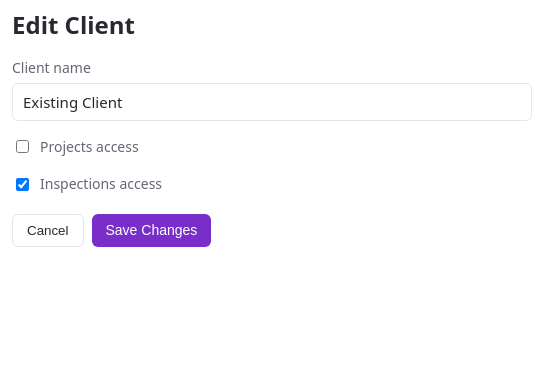
Test: ClientEditPage › shows an API error on update failure
This screenshot has width=549, height=390.
Click the button "Save Changes": (151, 230) x1=92 y1=214 x2=211 y2=247
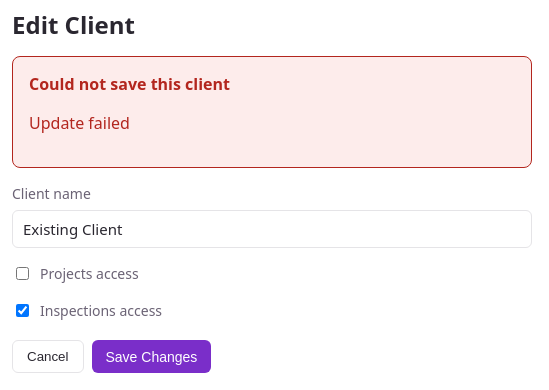
Expected: the text "Update failed" is shown, x1=29 y1=112 x2=130 y2=134
